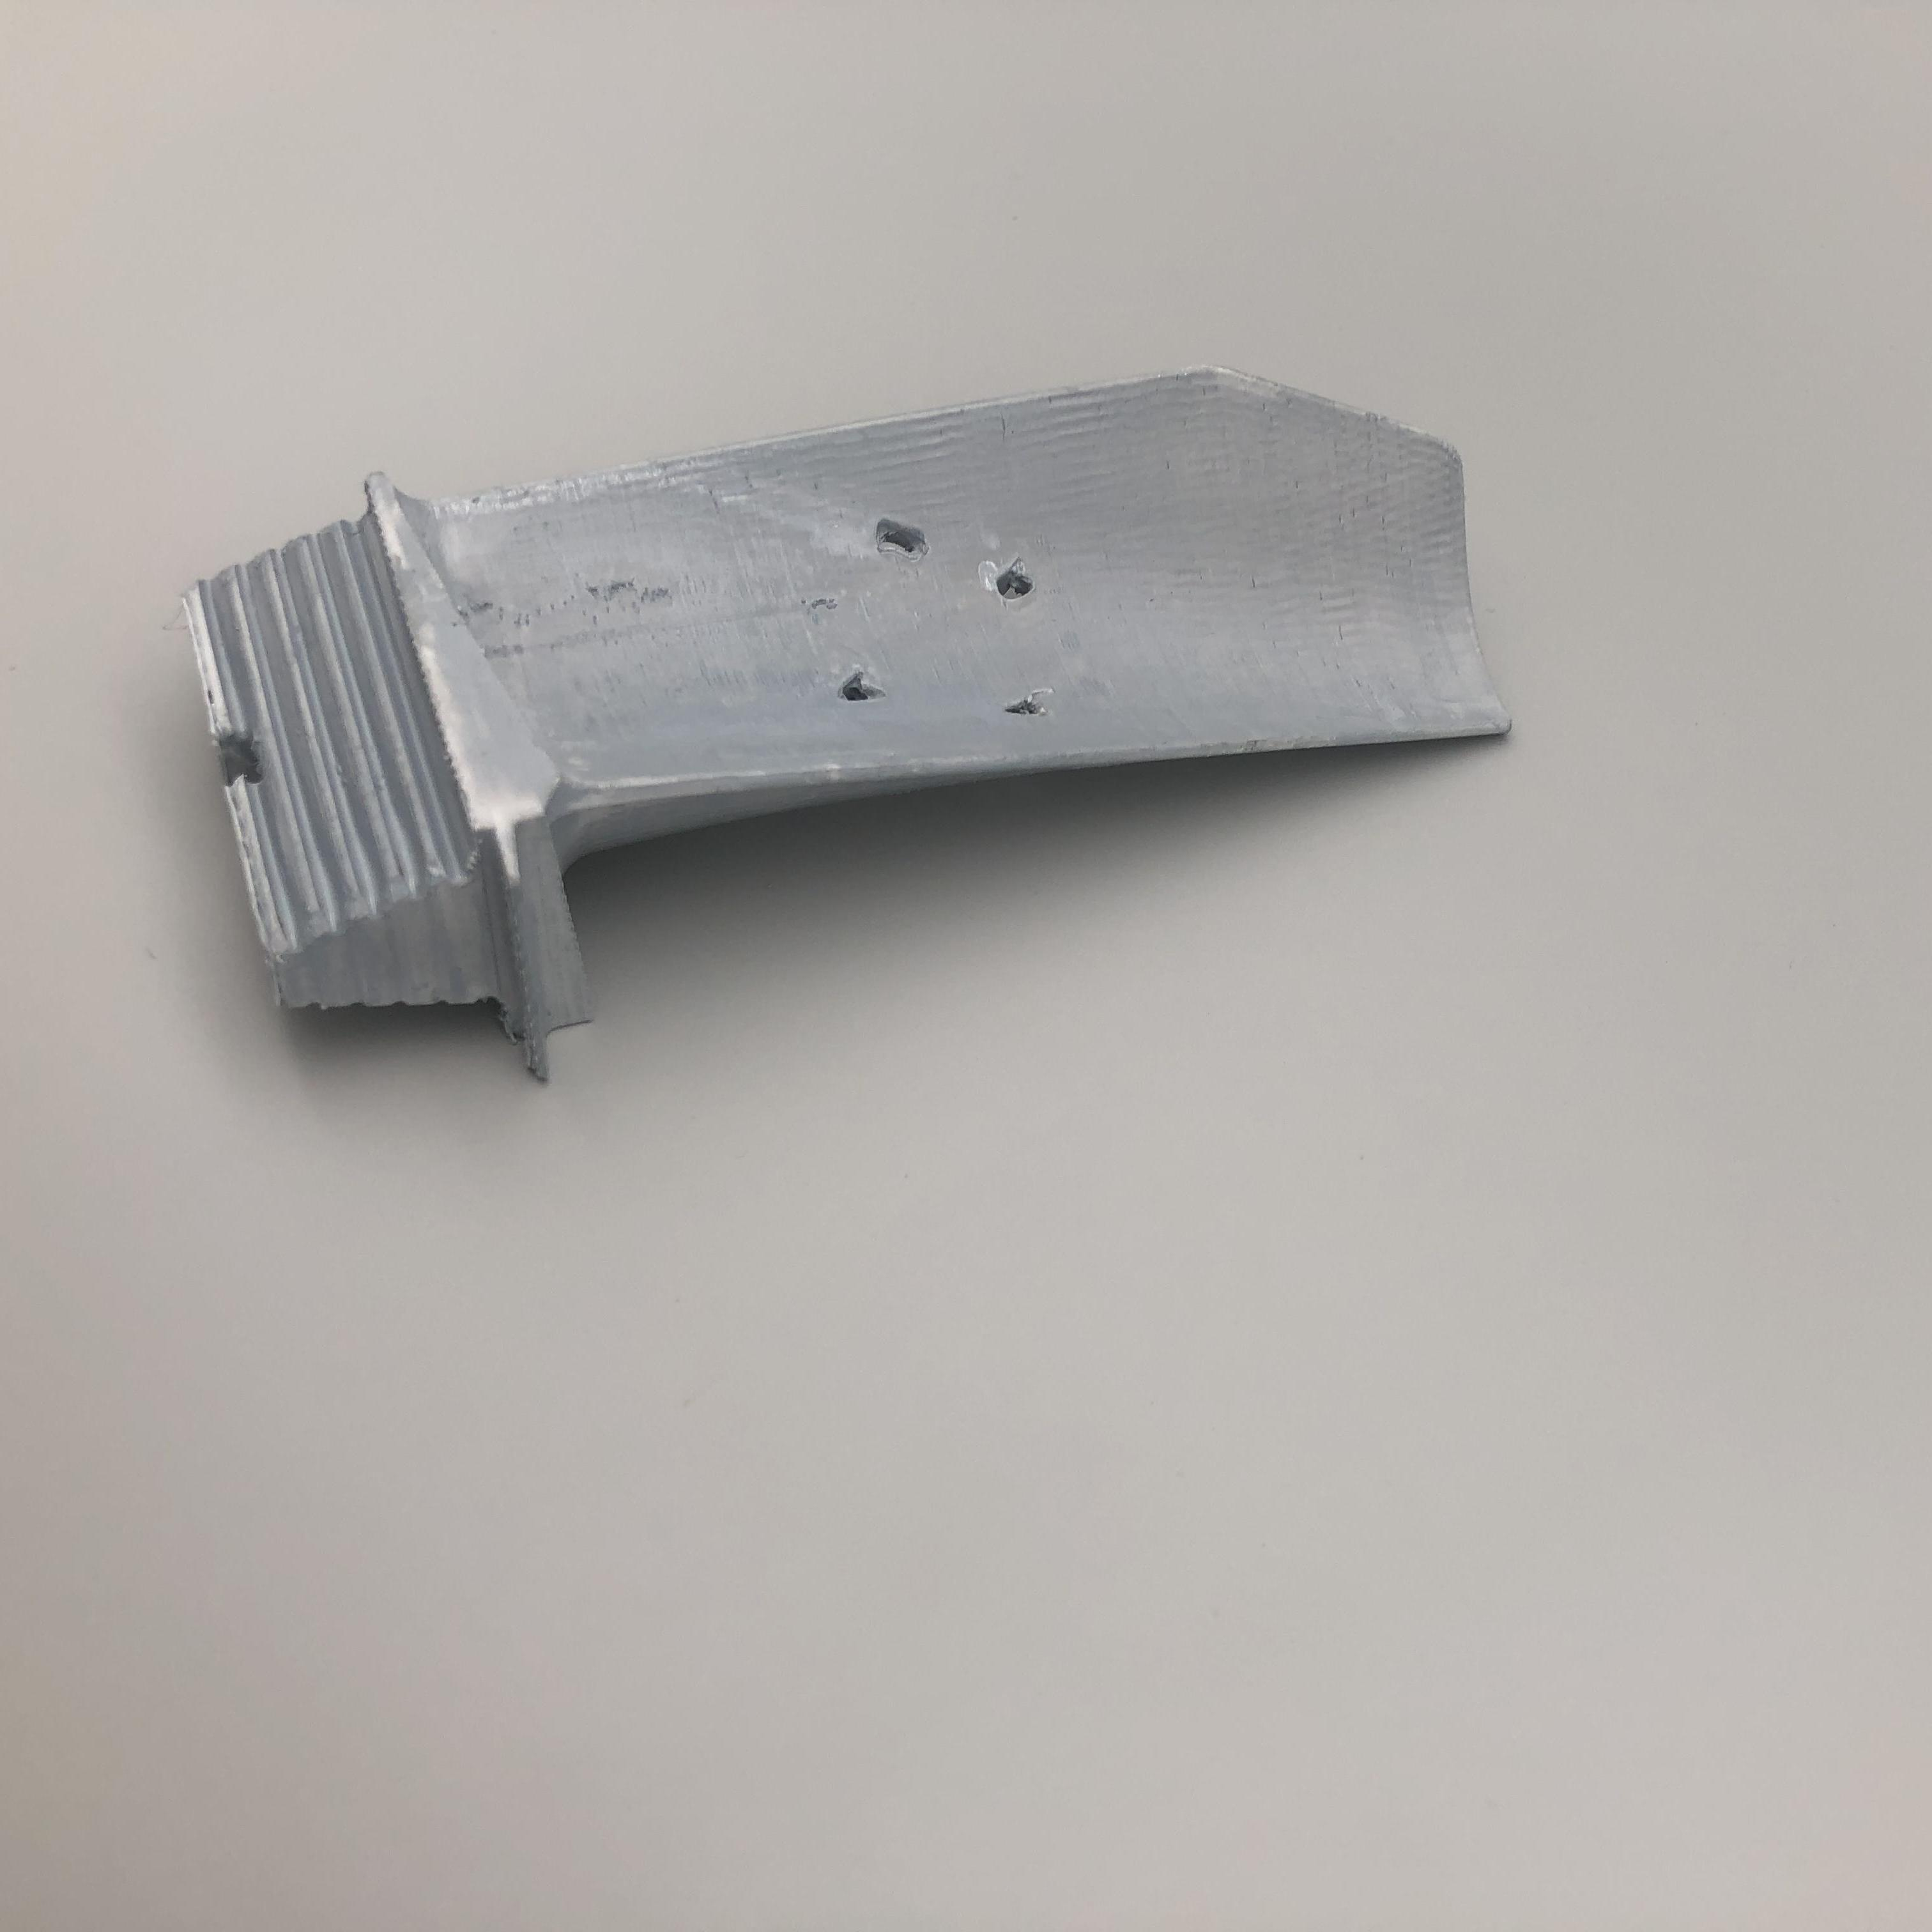breakdown: (835, 506, 1058, 722)
